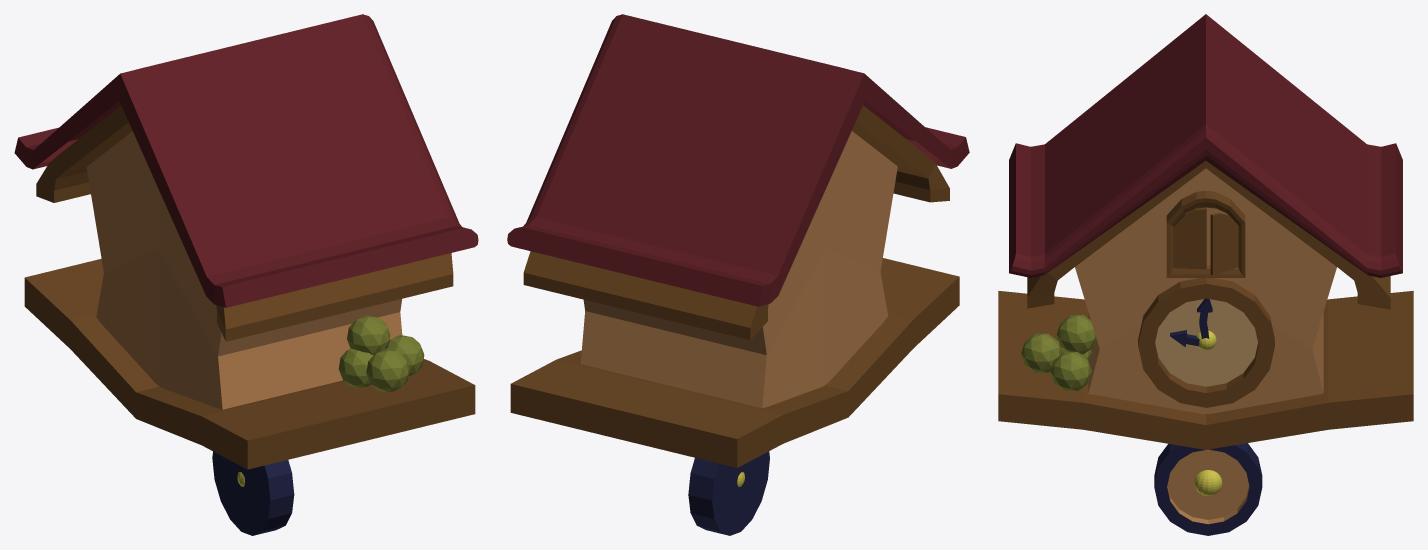
Rendered from Clock 2.fbx.
The picture shows the model from 3 angles, left to right: view 1: azimuth 30°, elevation 25°; view 2: azimuth 150°, elevation 25°; view 3: azimuth 270°, elevation 25°; orthographic projection. The views are drawn at different scales.
Parts seen in each view (by area): view 1: Cube.009, Cube.003, Cube.002, Cube.001, Cylinder.001, Icosphere.002, Icosphere.003, Icosphere, Icosphere.001; view 2: Cube.009, Cube.003, Cube.002, Cube.001, Cylinder.001; view 3: Cube.009, Cube.002, Cube.003, Cylinder, Cylinder.001, Cube.001, Cube, Cube.006, Cube.005, Icosphere.001, Icosphere.003, Icosphere.002.
Boxes of the visible parts, bbox=[...] form: Cube.009: bbox=[14, 14, 478, 307]; Cube.003: bbox=[86, 131, 402, 409]; Cube.002: bbox=[24, 258, 475, 469]; Cube.001: bbox=[36, 14, 453, 341]; Cylinder.001: bbox=[212, 451, 294, 535]; Icosphere.002: bbox=[366, 349, 409, 392]; Icosphere.003: bbox=[347, 315, 390, 354]; Icosphere: bbox=[338, 348, 373, 387]; Icosphere.001: bbox=[386, 335, 424, 376]; Cube.009: bbox=[507, 14, 969, 306]; Cube.003: bbox=[580, 131, 897, 408]; Cube.002: bbox=[510, 258, 959, 467]; Cube.001: bbox=[523, 14, 949, 340]; Cylinder.001: bbox=[688, 451, 769, 535]; Cube.009: bbox=[1009, 14, 1402, 277]; Cube.002: bbox=[998, 290, 1413, 449]; Cube.003: bbox=[1075, 168, 1336, 413]; Cylinder: bbox=[1138, 278, 1274, 407]; Cylinder.001: bbox=[1154, 443, 1262, 535]; Cube.001: bbox=[1027, 161, 1390, 309]; Cube: bbox=[1166, 190, 1245, 277]; Cube.006: bbox=[1173, 208, 1206, 269]; Cube.005: bbox=[1210, 212, 1238, 275]; Icosphere.001: bbox=[1050, 352, 1091, 390]; Icosphere.003: bbox=[1056, 315, 1096, 354]; Icosphere.002: bbox=[1021, 333, 1061, 372].
Size of the model in its own units: 52.88 by 97.25 by 80.34.
